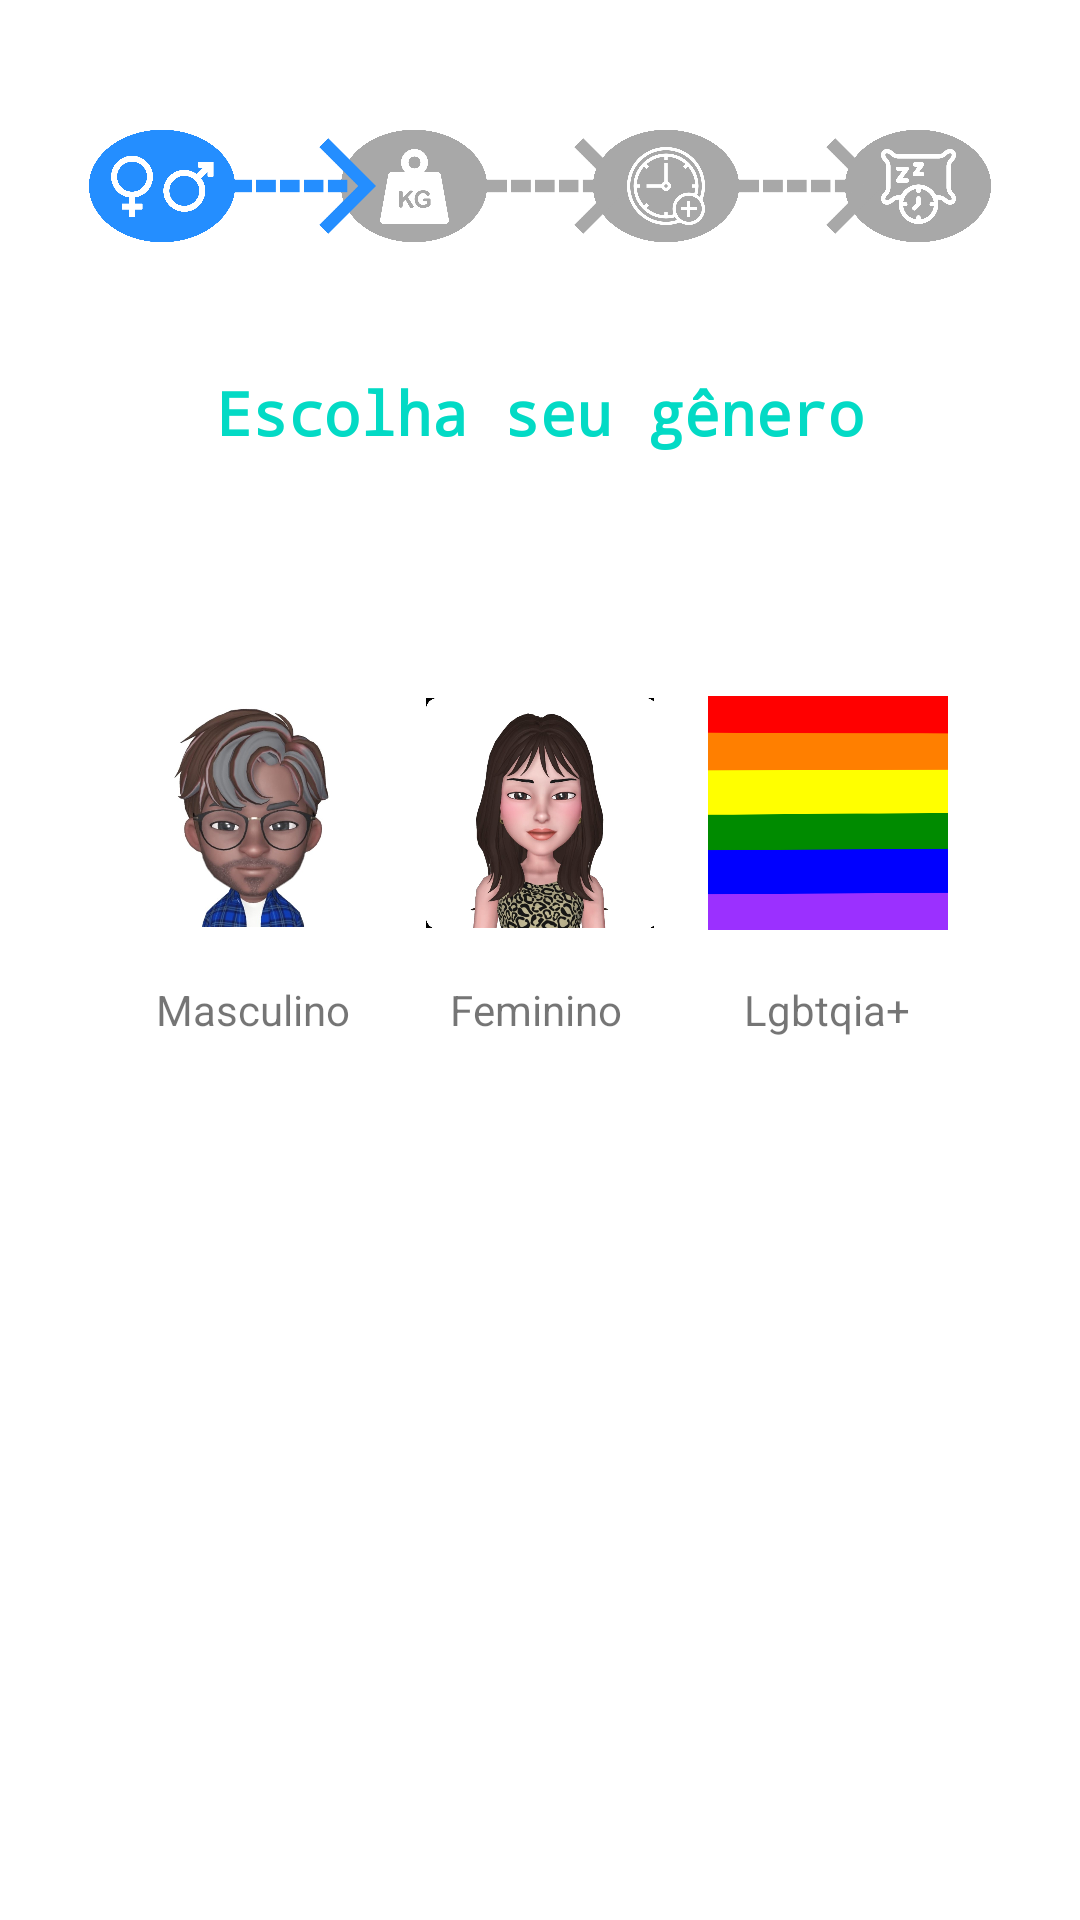

Point at icon controls on the screen. Image size 1080x1920, points as (x,y).
seta azul: (304,186)
seta cinza: (559,186), (811,186)
